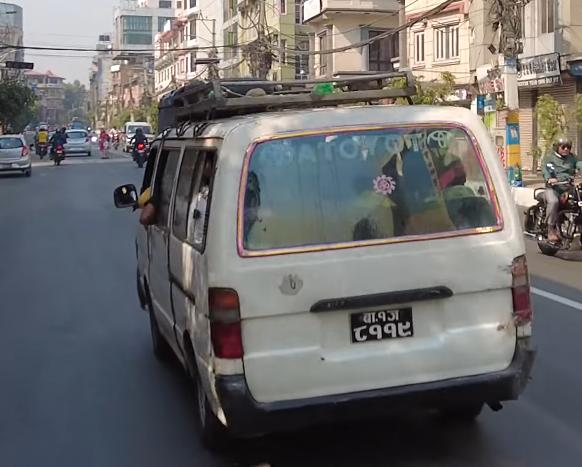car: (0, 129, 34, 183), (65, 126, 94, 162)
van: (120, 75, 542, 454)
